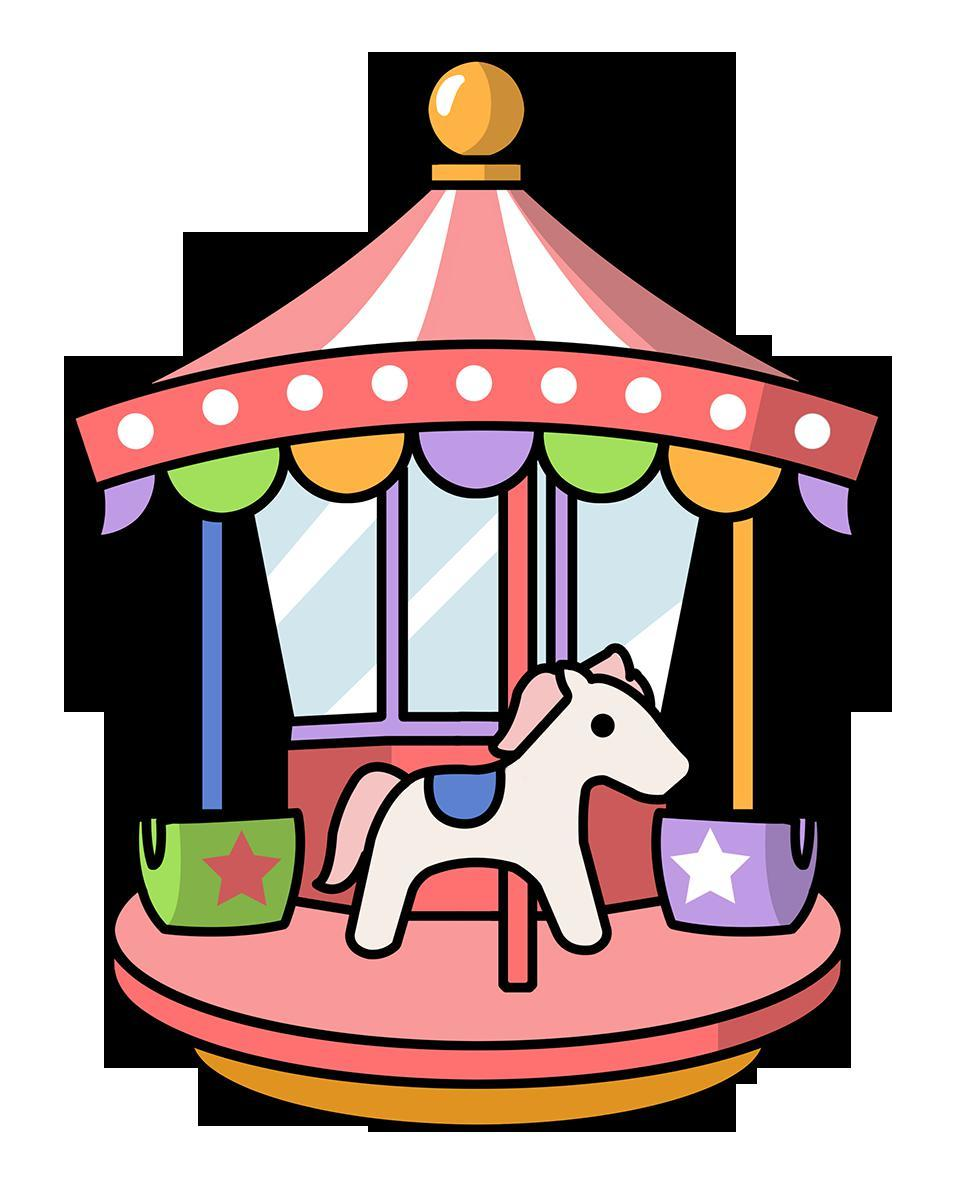horse: (308, 637, 709, 960)
